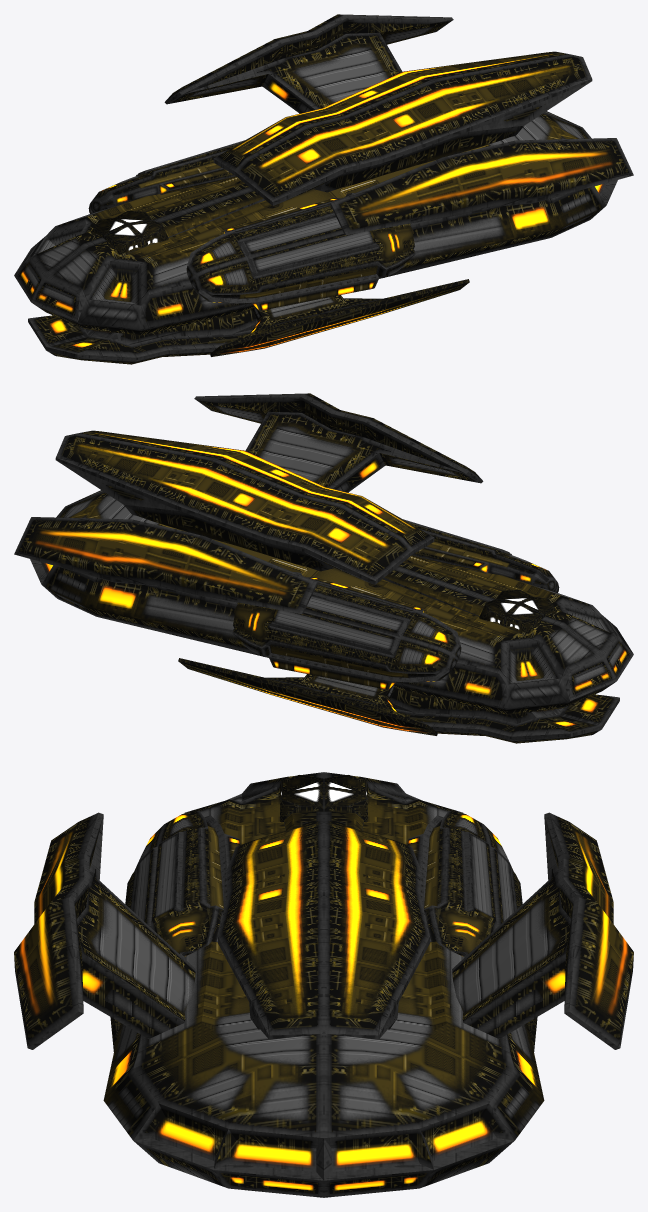
File: etheriumLightCruiser.FBX
3 views of the same model, one above another, from view 1: azimuth 30°, elevation 25°; view 2: azimuth 150°, elevation 25°; view 3: azimuth 270°, elevation 25° (orthographic). The views are drawn at different scales.
Visible parts, largest first — view 1: Box001; view 2: Box001; view 3: Box001.
Part boxes in pixels (x1=…): Box001: x1=14, y1=14, x2=633, y2=364; Box001: x1=14, y1=393, x2=633, y2=743; Box001: x1=14, y1=772, x2=633, y2=1197.
Bounding box in the file's own units: 26.04 × 9.44 × 16.6.
1 material, 1 textured.
